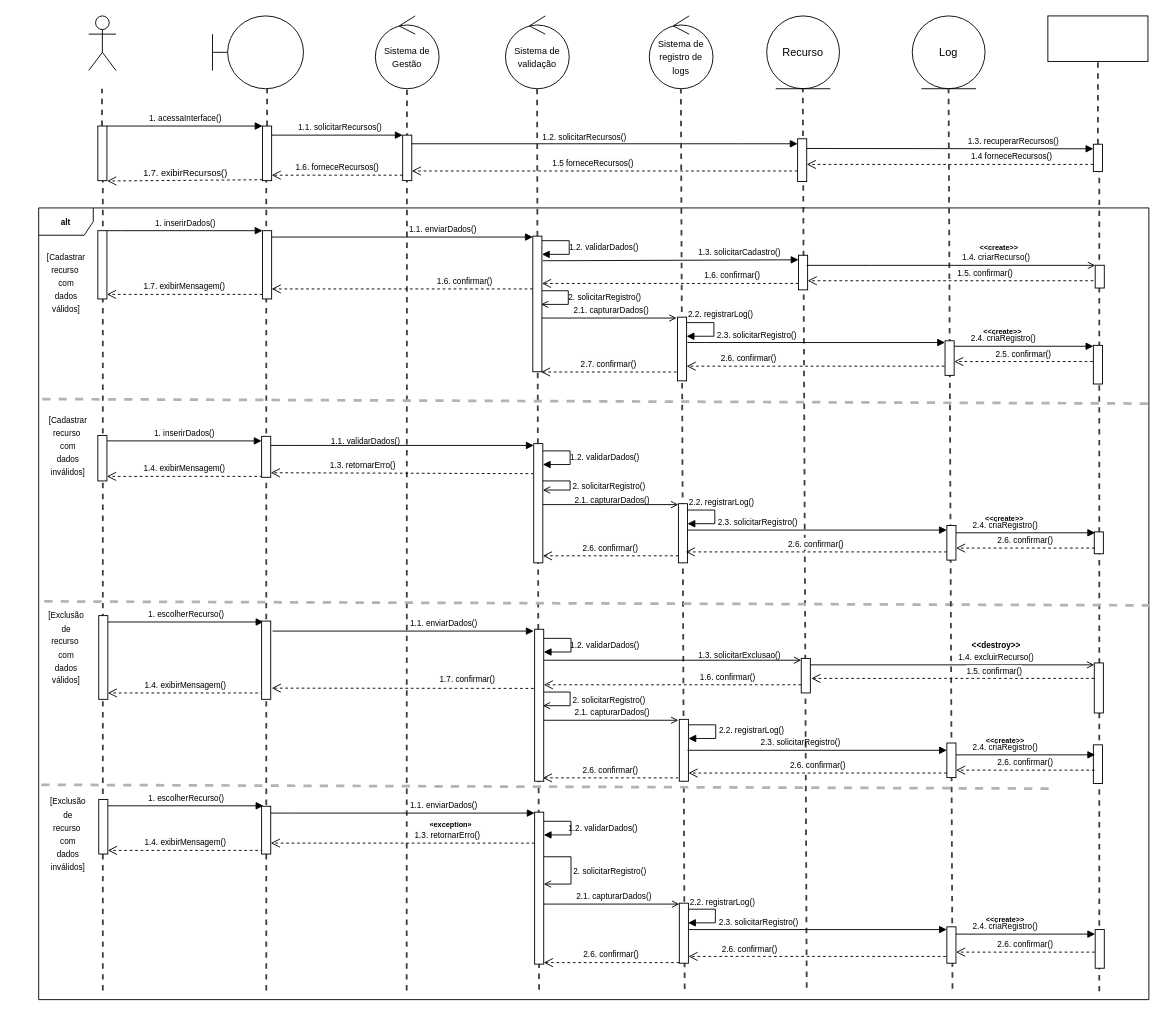
This 1168x1016 diagram has some shape labels left out. The shapes that lost their labels are listed below. From the top down, each one's centre as x and y in pixels, then its label:
point (102, 43): Gestor administrativo
point (257, 52): Interface de Gestão
point (1097, 38): Banco de dados
